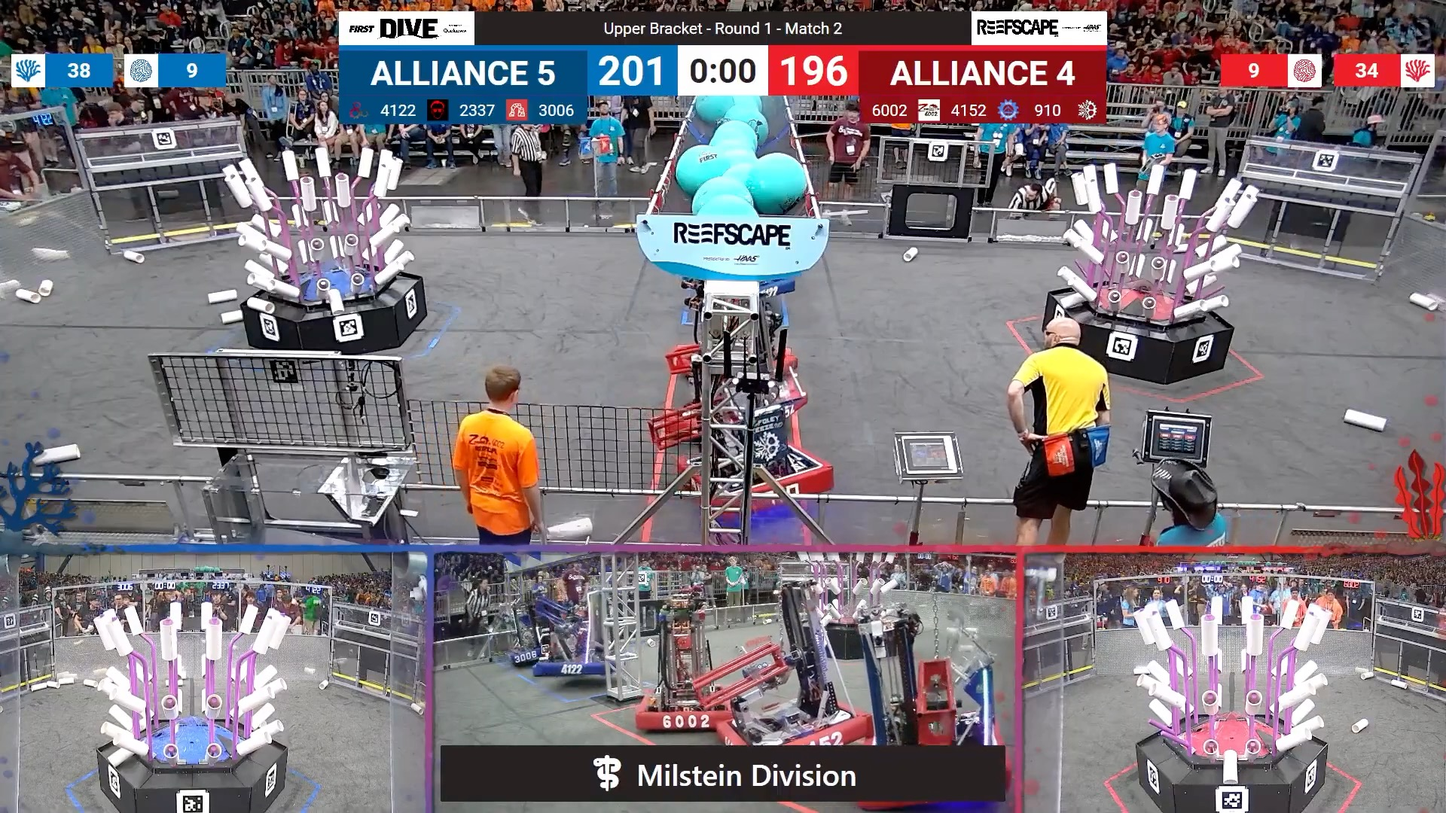bumpers: (718, 703, 873, 749), (502, 650, 551, 668)
